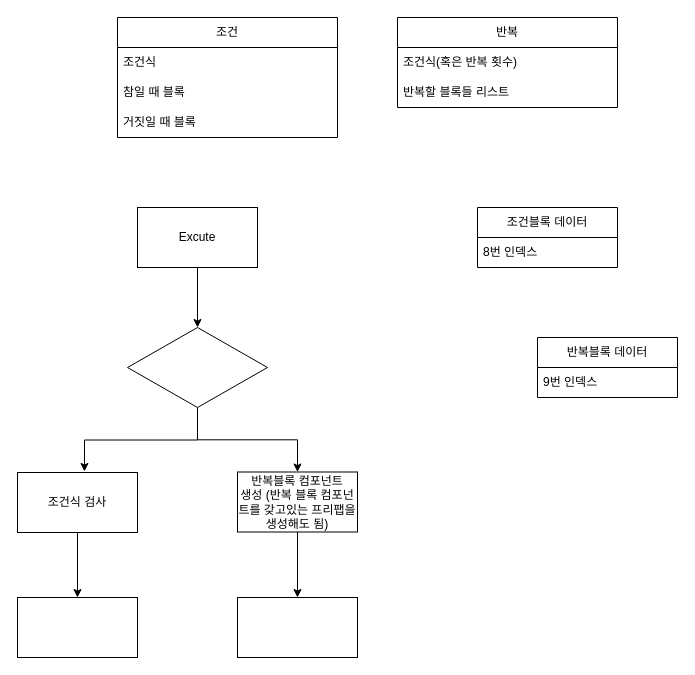
The diagram is 695 pixels wide and 675 high, and some of its shapes have lost their labels. Here are the shapes that lost their labels. From the top down, the centre of each, then its label:
At pixel 197 367: "8번인덱스 혹은 9번인덱스인가?".
At pixel 77 627: "True일때의 코드블록 혹은 False일때의 코드블록 반환".
At pixel 297 627: "반복블록 안의 리스트에 있는 코드블록을 반복횟수만큼 불러오기".
